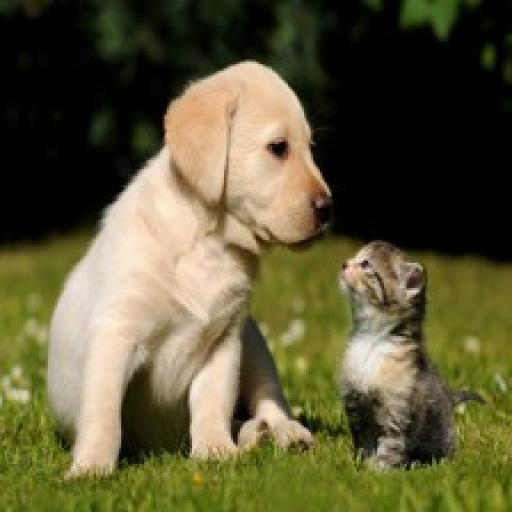dog: (42, 56, 340, 485)
